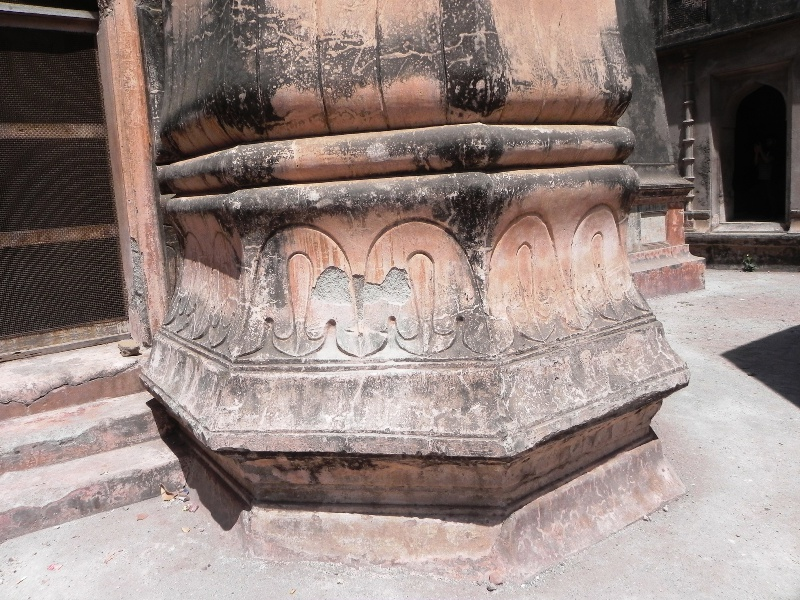Spalling: (312, 263, 412, 309)
